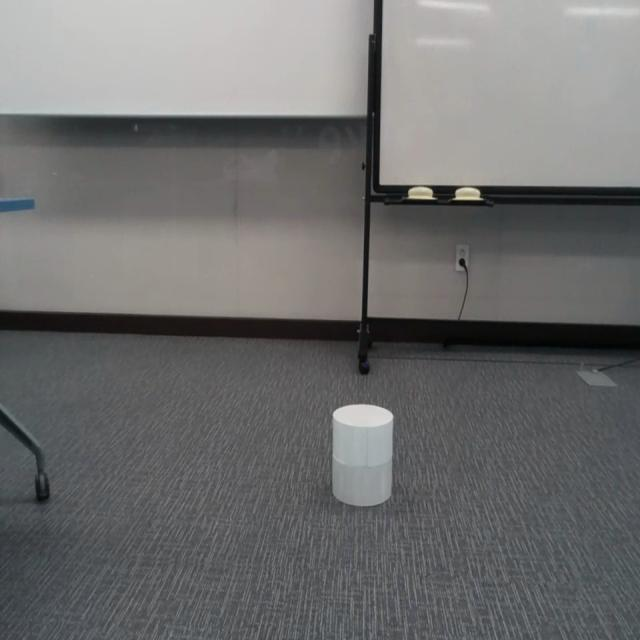cylinder: (331, 403, 394, 507)
